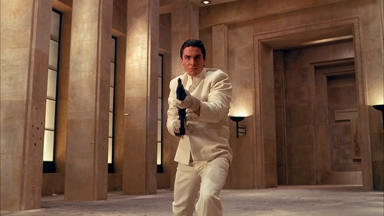firearm: (173, 77, 187, 135)
